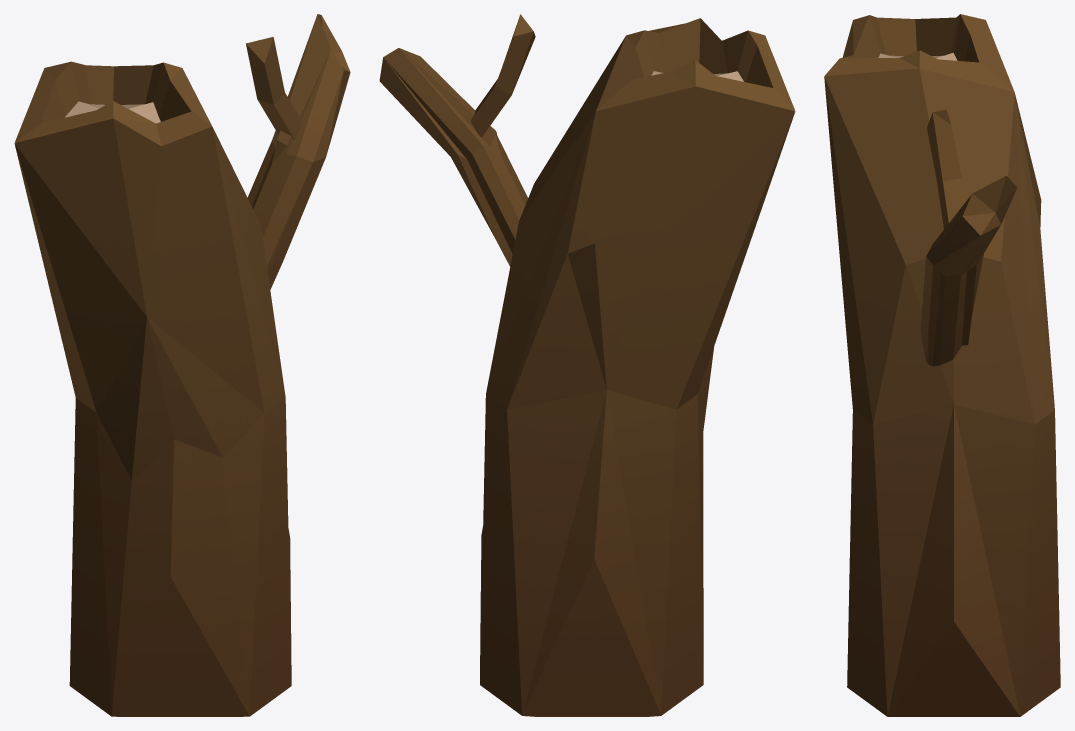
File: tree_003.FBX
3 views of the same model, side by side, from view 1: azimuth 30°, elevation 25°; view 2: azimuth 150°, elevation 25°; view 3: azimuth 270°, elevation 25° (orthographic). The views are drawn at different scales.
Visible parts, largest first — view 1: tree_003; view 2: tree_003; view 3: tree_003.
Boxes of the visible parts, box(x1,y1,x2,y2) form: tree_003: box(14, 14, 350, 716); tree_003: box(379, 14, 795, 716); tree_003: box(824, 14, 1060, 716).
Size of the model in its own units: 2.66 by 4.46 by 1.53.
Materials: 1 (1 with a texture image).
